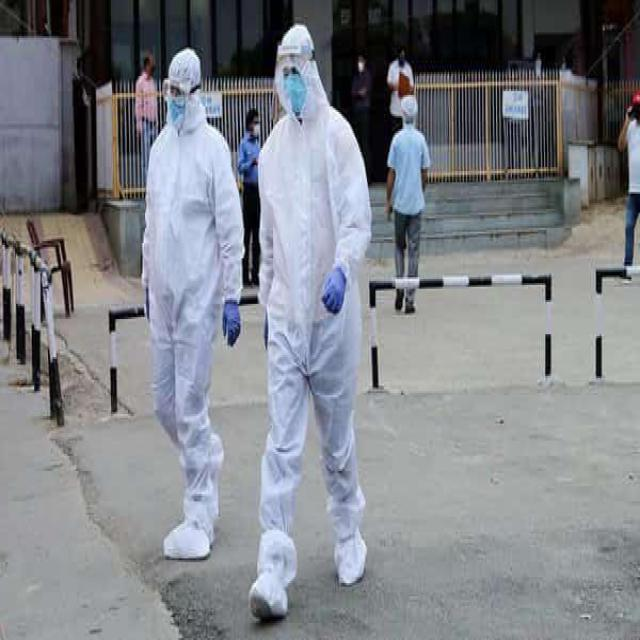gloves: (319, 264, 346, 316), (220, 294, 243, 347)
